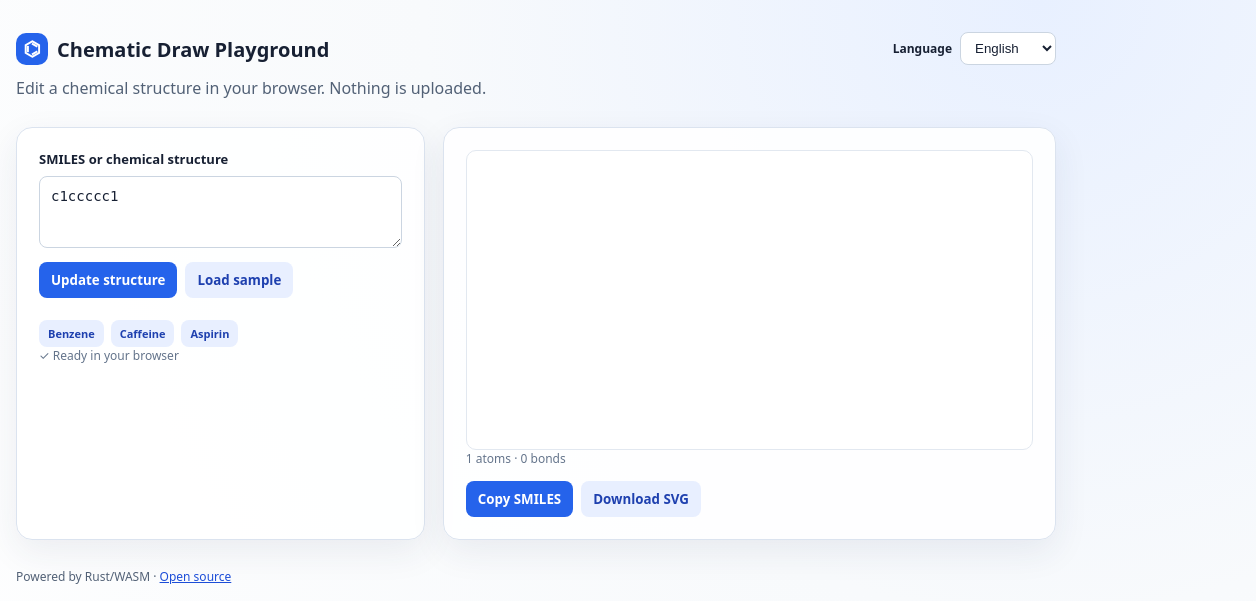
Playground › shows a clear parse error while keeping the previous preview
Expected: the text "✓ Ready in your browser" is shown, [39,347,179,364]
Replace the text in the text box labelled "SMILES or chemical structure" with "bad": (220, 212) [39,176,402,248]
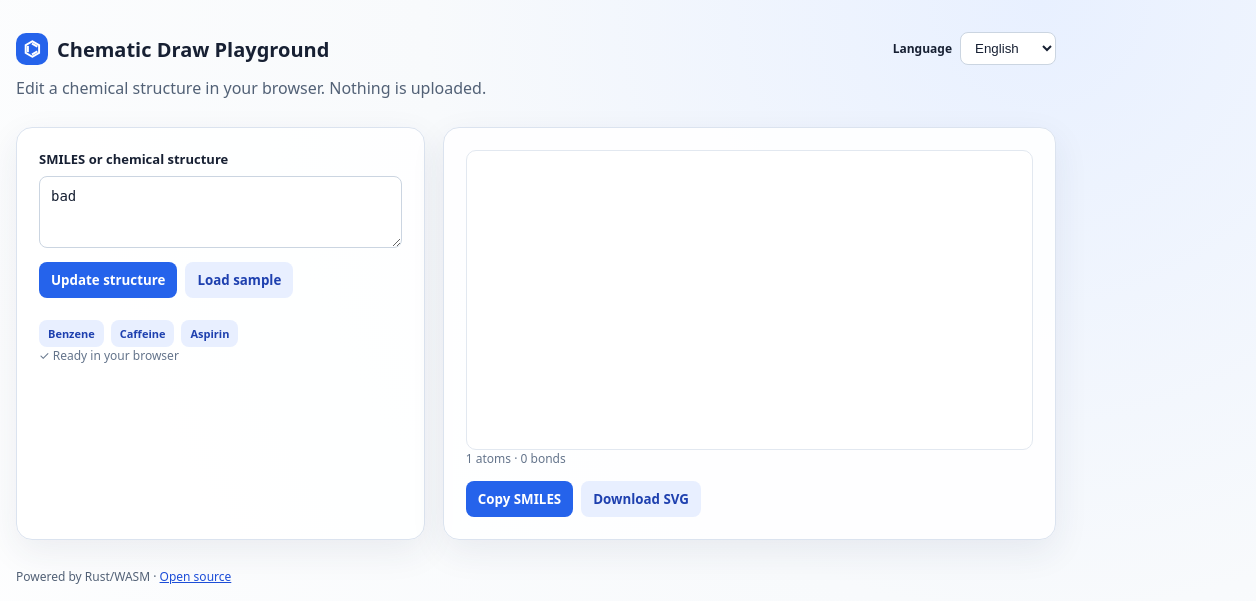
Click the button "Update structure": click(108, 280) [39,262,177,298]
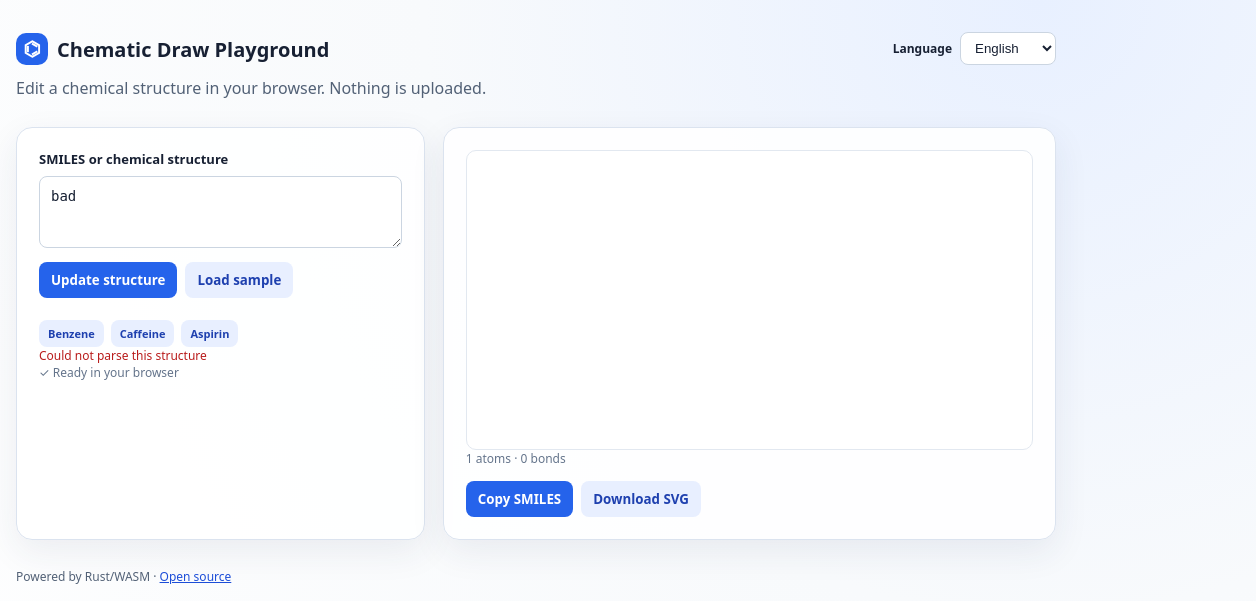
Expected: the message "Could not parse this structure" is shown, [39,347,207,364]
